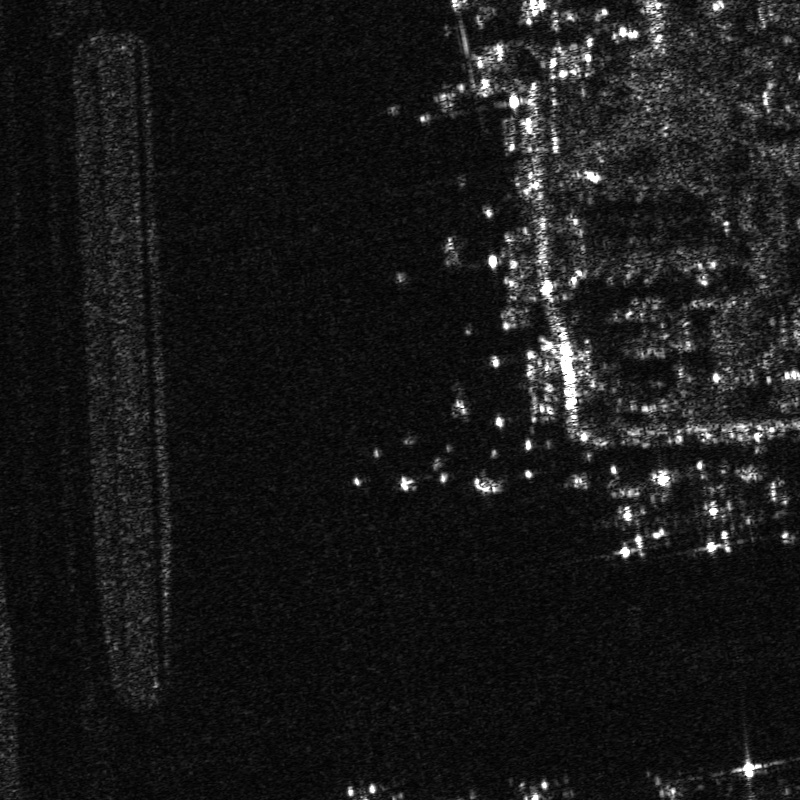ARJ21: (757, 463, 799, 545)
Boeing737: (592, 476, 680, 562)
other: (689, 472, 755, 555), (338, 771, 385, 799), (647, 774, 695, 799), (517, 778, 565, 799)
